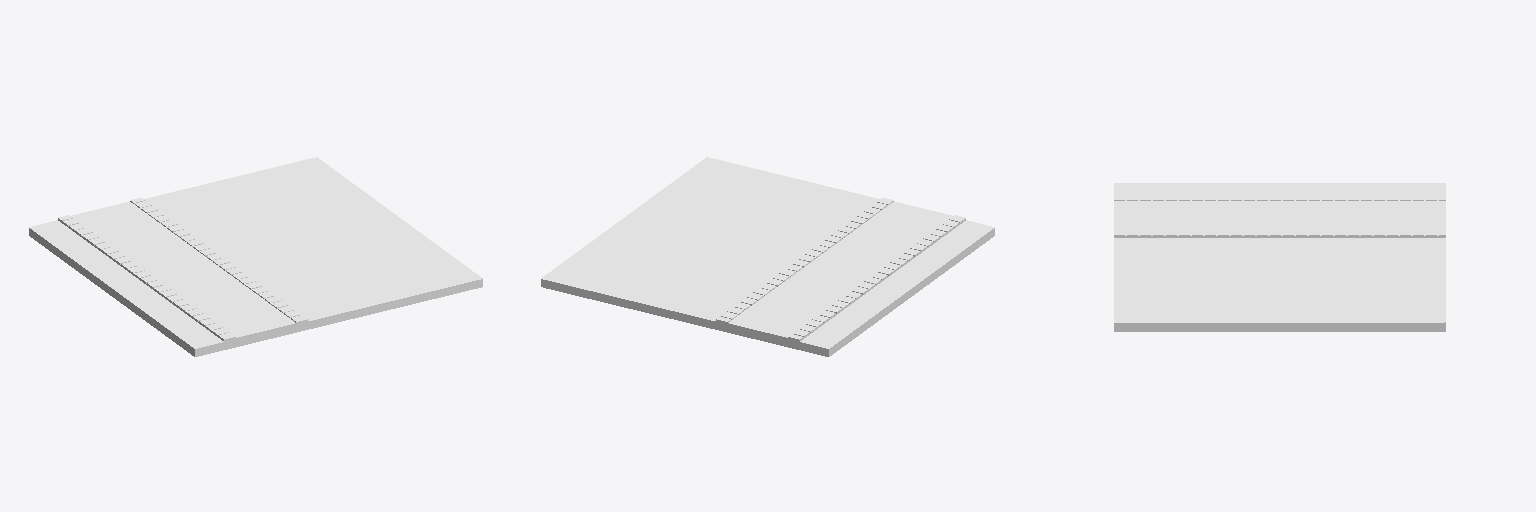
The model's file is roadLine3.obj.
3 renders of one model, left to right at view 1: azimuth 30°, elevation 25°; view 2: azimuth 150°, elevation 25°; view 3: azimuth 270°, elevation 25°, orthographic.
Visible parts, largest first — view 1: object 1; view 2: object 1; view 3: object 1.
Part boxes in pixels (left/top/right/bottom): object 1: left=29, top=157, right=482, bottom=356; object 1: left=541, top=157, right=994, bottom=356; object 1: left=1114, top=183, right=1445, bottom=331.
Bounding box in the file's own units: 25.6 × 0.9 × 25.6.